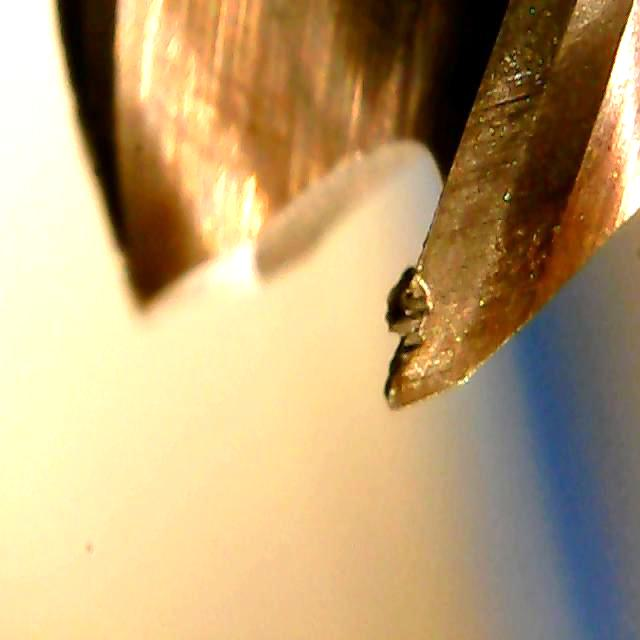Tool-wear-class-1: (356, 100, 548, 422)
